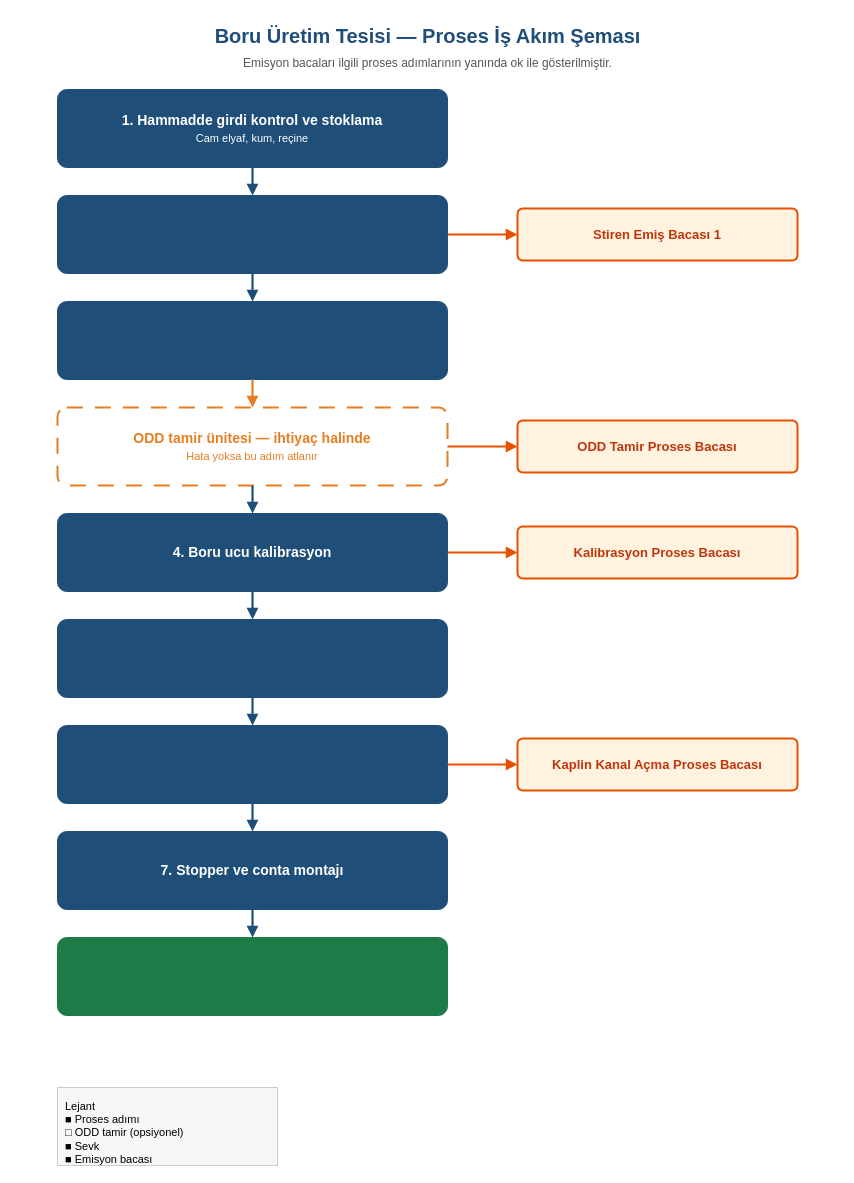
This 854x1183 diagram has some shape labels left out. Each missing label, with the box of its shape:
2. Winder'da boru üretimi Günlük tank / raf — döner kalıba sarım: (56, 194, 448, 274)
3. Boru boy kesme: (56, 300, 448, 380)
5. Hidrotest: (56, 618, 448, 698)
6. Coupling kanal açma: (56, 724, 448, 804)
8. Stok sahasına sevk İstifleme — sevkiyat — müşteri: (56, 936, 448, 1016)
